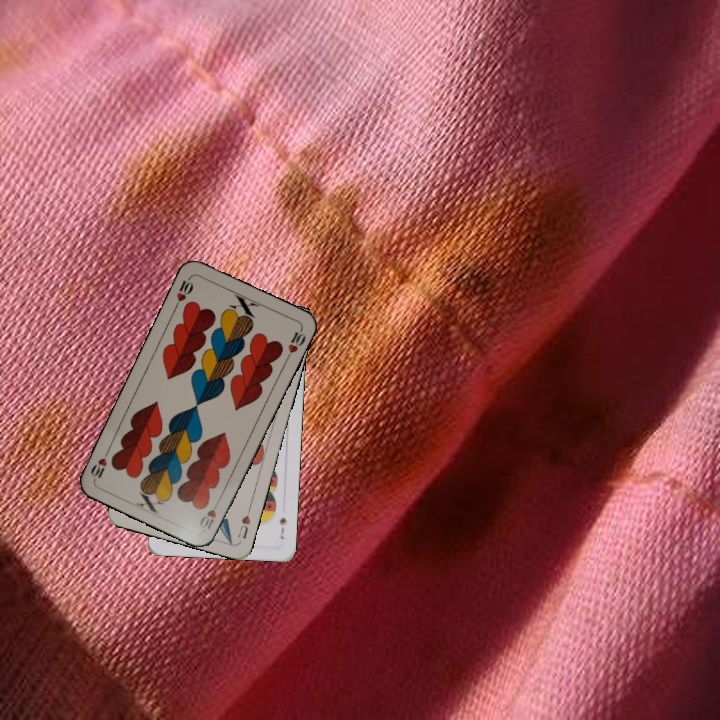H10: (195, 496, 223, 532), (171, 273, 196, 311)
HU: (234, 504, 253, 542)
S7: (276, 513, 289, 542)
